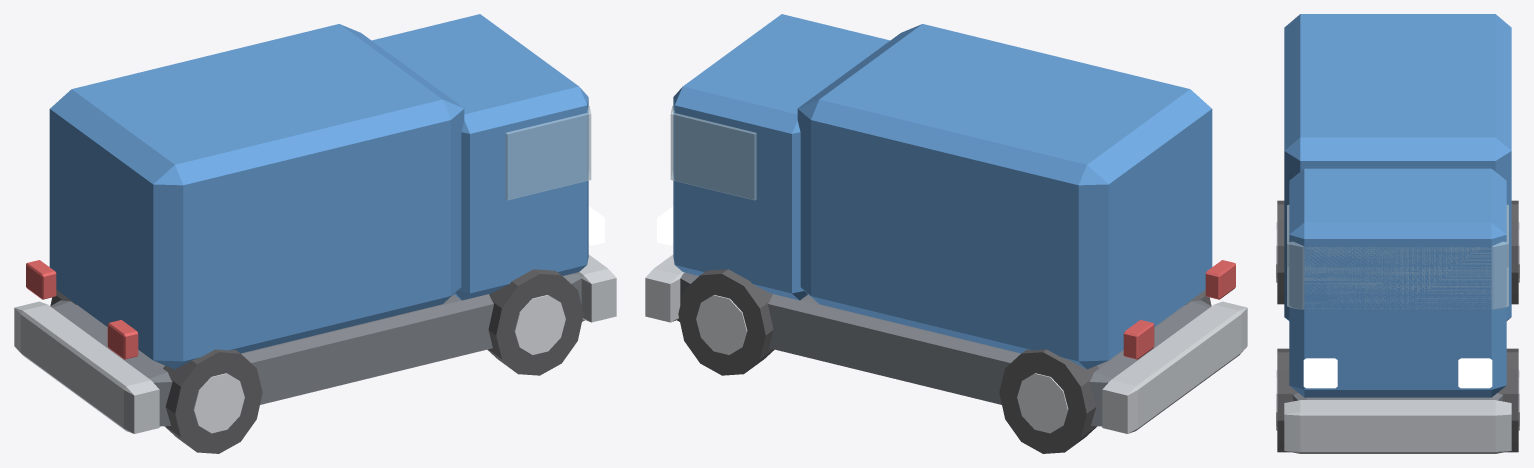
File: b15_postal_walkin_truck.glb
3 views of the same model, side by side, from view 1: azimuth 30°, elevation 25°; view 2: azimuth 150°, elevation 25°; view 3: azimuth 270°, elevation 25° (orthographic). The views are drawn at different scales.
Visible parts, largest first — view 1: b15_postal_walkin_truck; view 2: b15_postal_walkin_truck; view 3: b15_postal_walkin_truck.
Part boxes in pixels (box(x1,y1,x2,y2)): b15_postal_walkin_truck: box(14, 14, 616, 453); b15_postal_walkin_truck: box(645, 14, 1247, 453); b15_postal_walkin_truck: box(1276, 14, 1519, 453).
Size of the model in its own units: 5.48 by 3.1 by 2.52.
